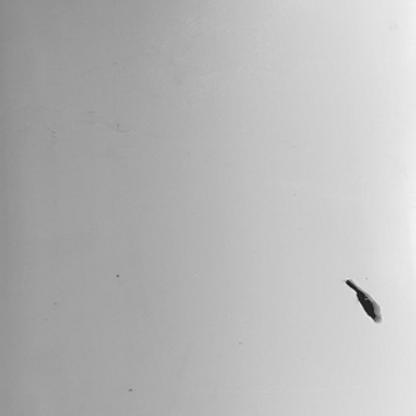kongdong: (344, 279, 388, 324)
